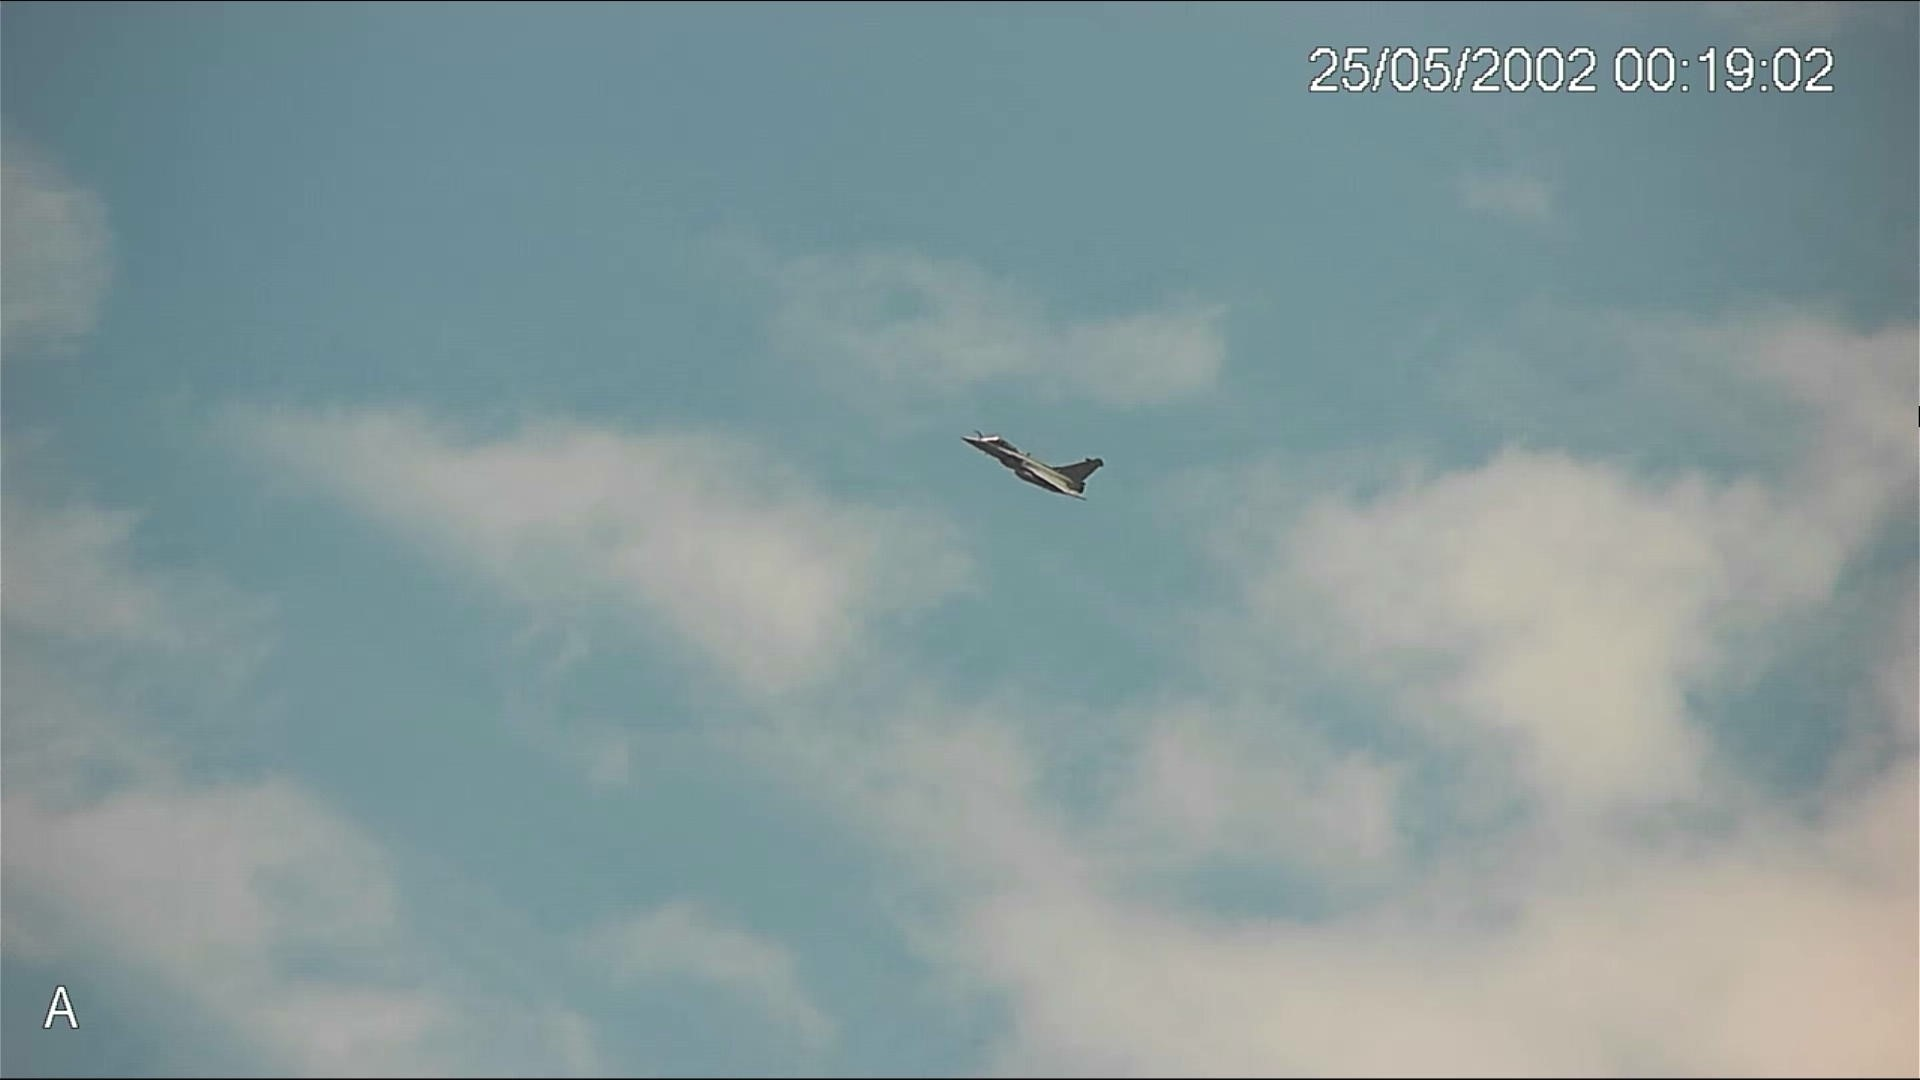SU_30: (960, 418, 1112, 512)
